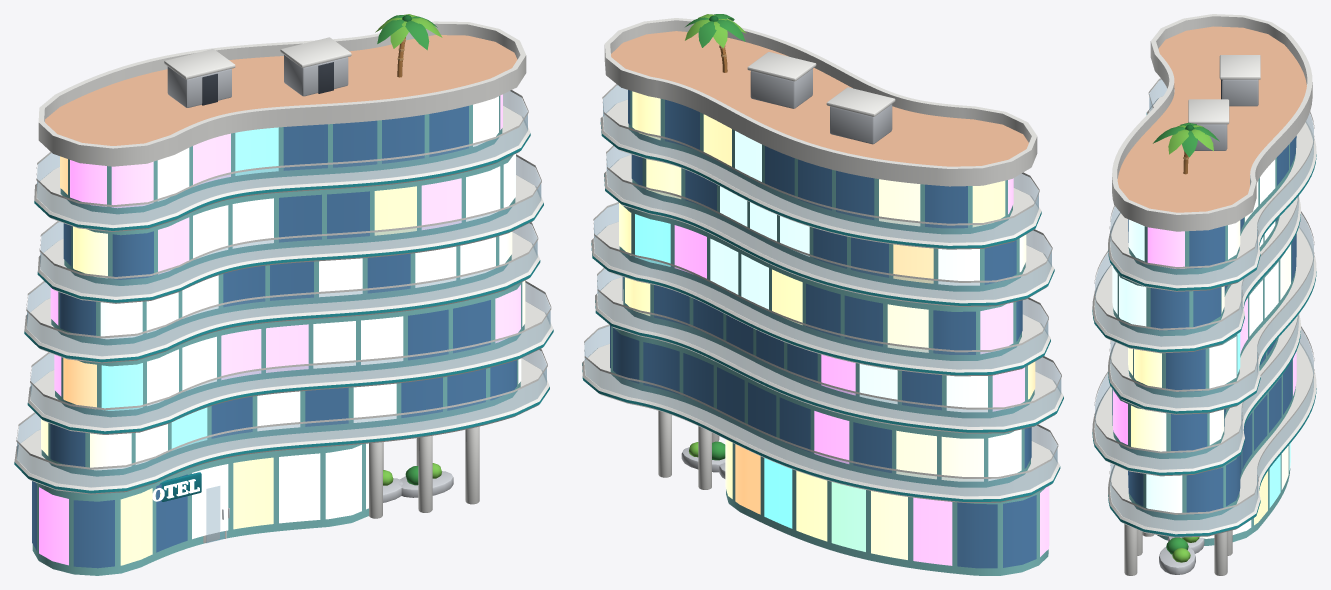
The model's file is hotel_ondulado.glb.
3 views of the same model, side by side, from view 1: azimuth 30°, elevation 25°; view 2: azimuth 150°, elevation 25°; view 3: azimuth 270°, elevation 25° (orthographic). The views are drawn at different scales.
Visible parts, largest first — view 1: hotel_ondulado; view 2: hotel_ondulado; view 3: hotel_ondulado.
Part boxes in pixels (<box>): hotel_ondulado: <box>14,14,553,575</box>; hotel_ondulado: <box>582,14,1063,575</box>; hotel_ondulado: <box>1092,14,1316,575</box>.
Bounding box in the file's own units: 25.65 × 23.39 × 10.96.
Materials: 10 (1 with a texture image).
